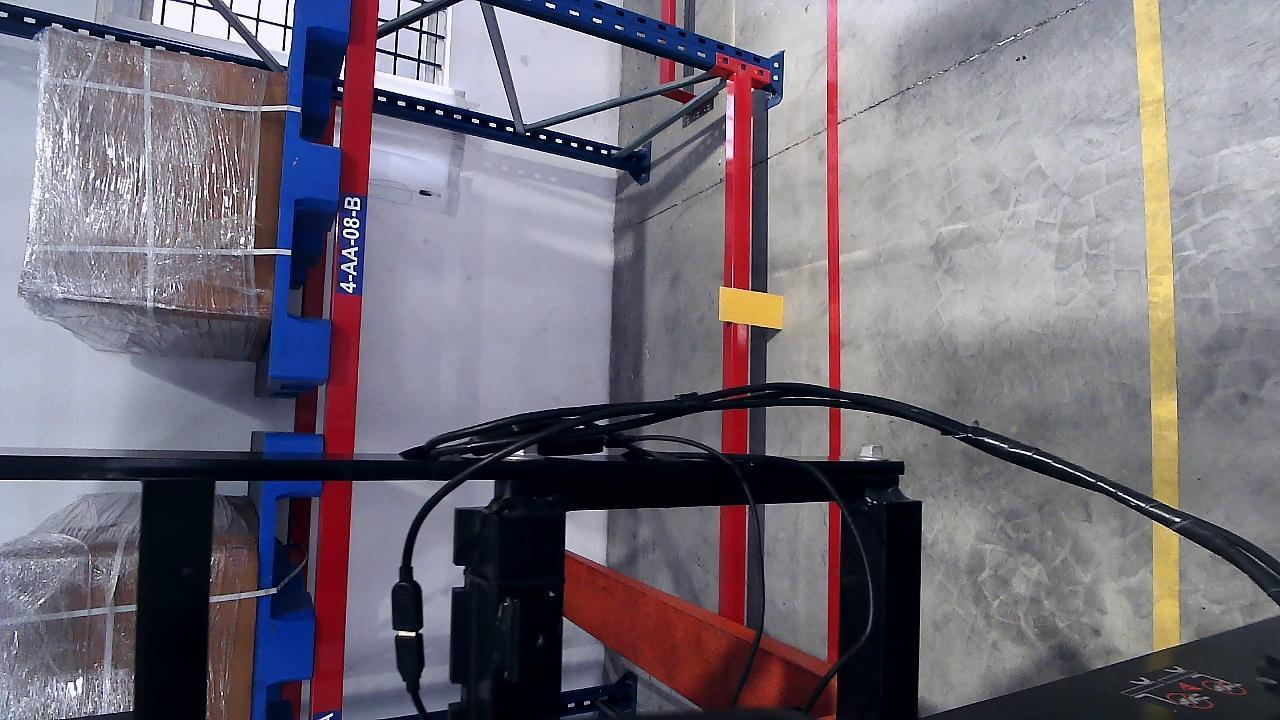red_line: (823, 6, 842, 457)
yellow_line: (1134, 0, 1181, 645)
